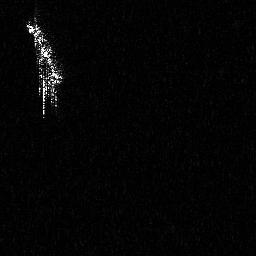ship: (23, 13, 67, 121)
